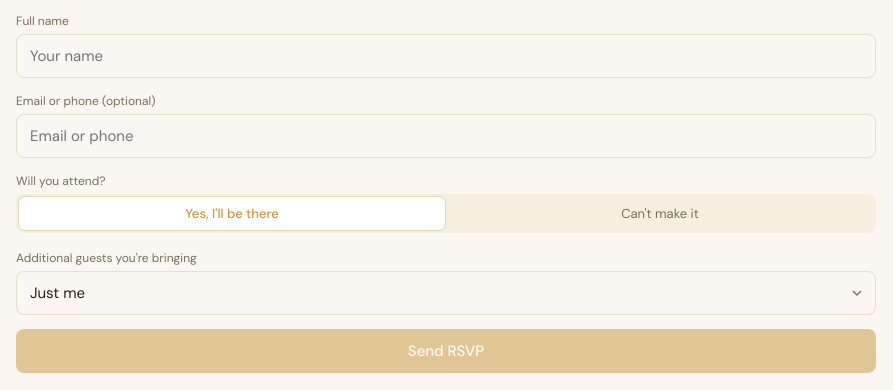
RsvpForm › sends attending:false with no guests
Type "Bob" into the field labelled "Full name" at (446, 56), box [16,34,876,78]
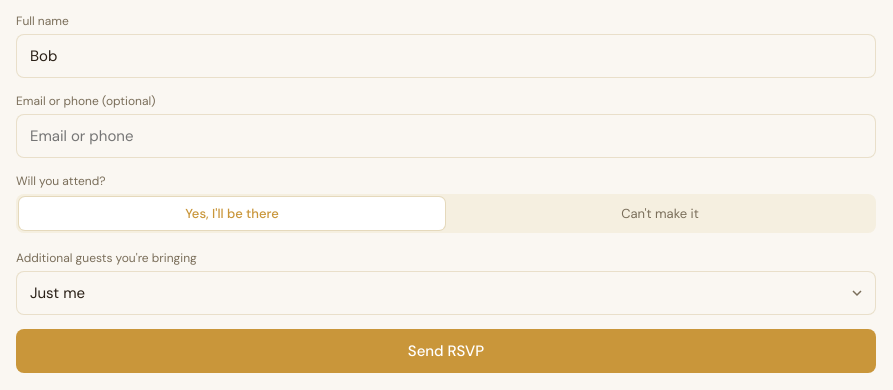
Type "bob@x.com" into the field labelled "Email or phone (optional)" at (446, 136), box [16,114,876,158]
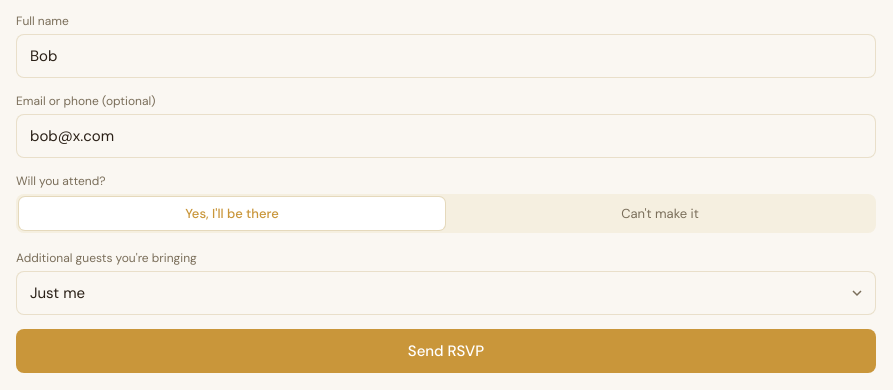
Click the button "Can't make it" at (660, 214), box [447,197,873,230]
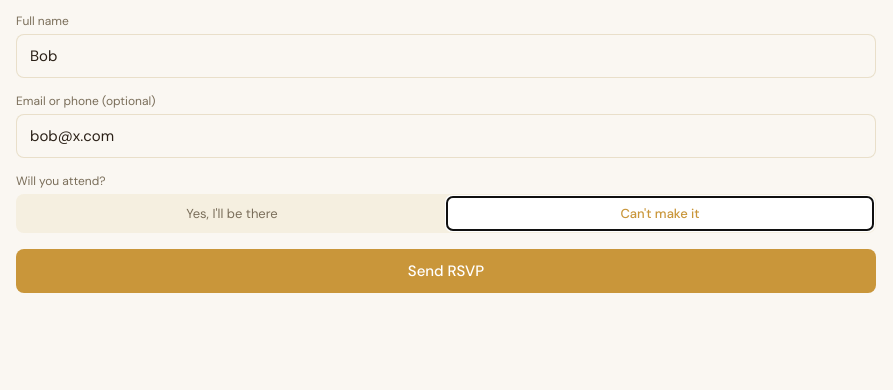
Click the button "Send RSVP" at (446, 271), box [16,249,876,293]
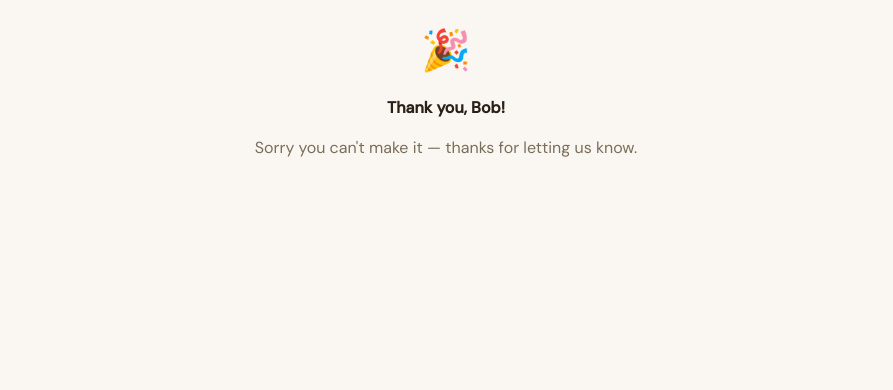
expect the text "Thank you, Bob!" is shown: met, box [387,97,505,118]
